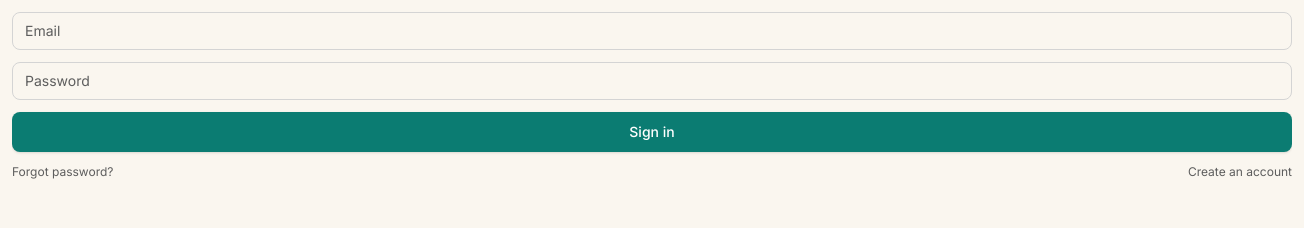
Test: PasswordLoginForm submission › falls back to a generic message when the API sends none
The image size is (1304, 228).
Type "a@b.test" into the field with placeholder "Email" at (652, 31), box [12,12,1292,50]
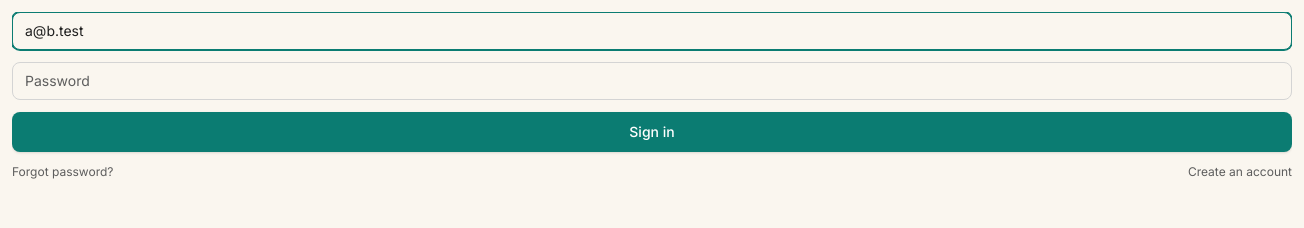
Type "hunter2" into the password field with placeholder "Password" at (652, 81), box [12,62,1292,100]
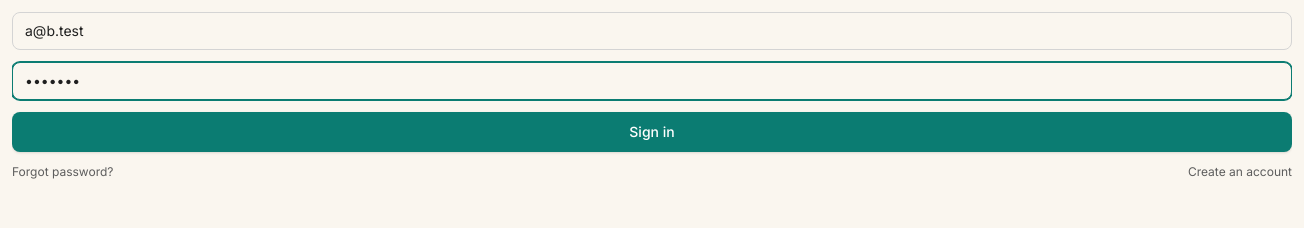
Click the button "Sign in" at (652, 132), box [12,112,1292,152]
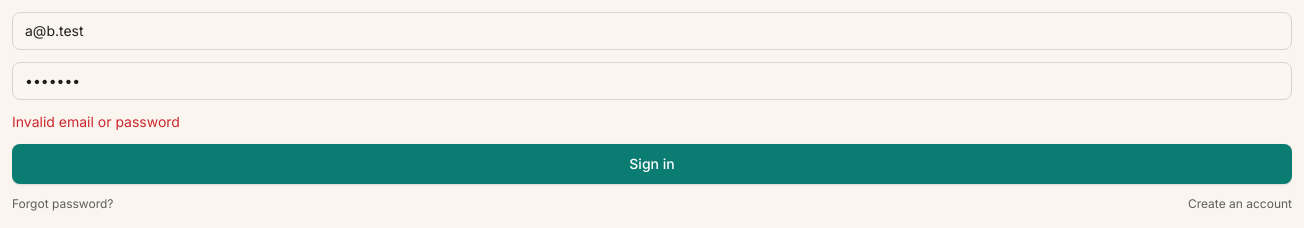
Check: the text "Invalid email or password" is shown, box [12,113,180,130]
